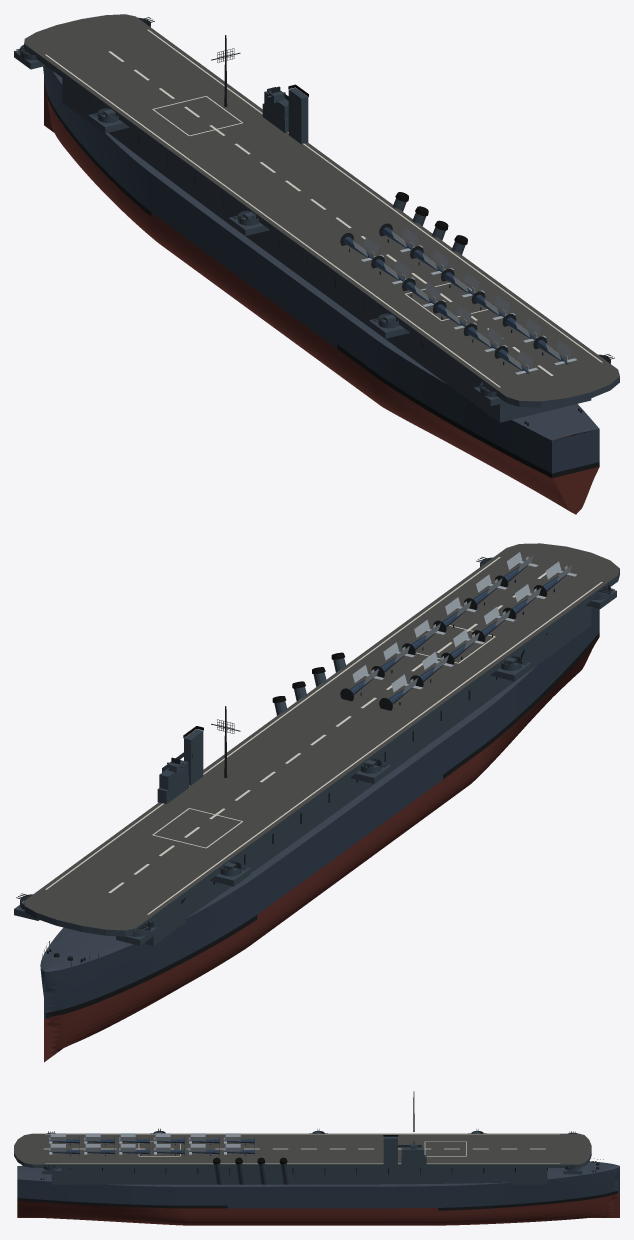
The model's file is independence.glb.
3 views of the same model, one above another, from view 1: azimuth 30°, elevation 25°; view 2: azimuth 150°, elevation 25°; view 3: azimuth 270°, elevation 25° (orthographic). The views are drawn at different scales.
Visible parts, largest first — view 1: Hull; view 2: Hull; view 3: Hull.
Boxes of the visible parts, x1,y1,x2,y2 form: Hull: [14, 14, 619, 514]; Hull: [14, 543, 619, 1062]; Hull: [14, 1091, 619, 1225].
Bounding box in the file's own units: 29.56 × 43.9 × 191.
